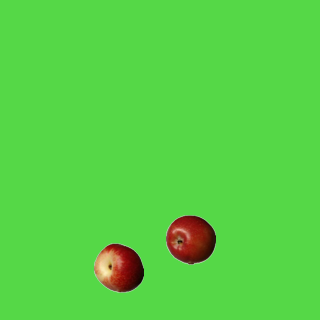Apple Braeburn: (165, 214, 215, 264)
Nectarine: (93, 242, 143, 292)
